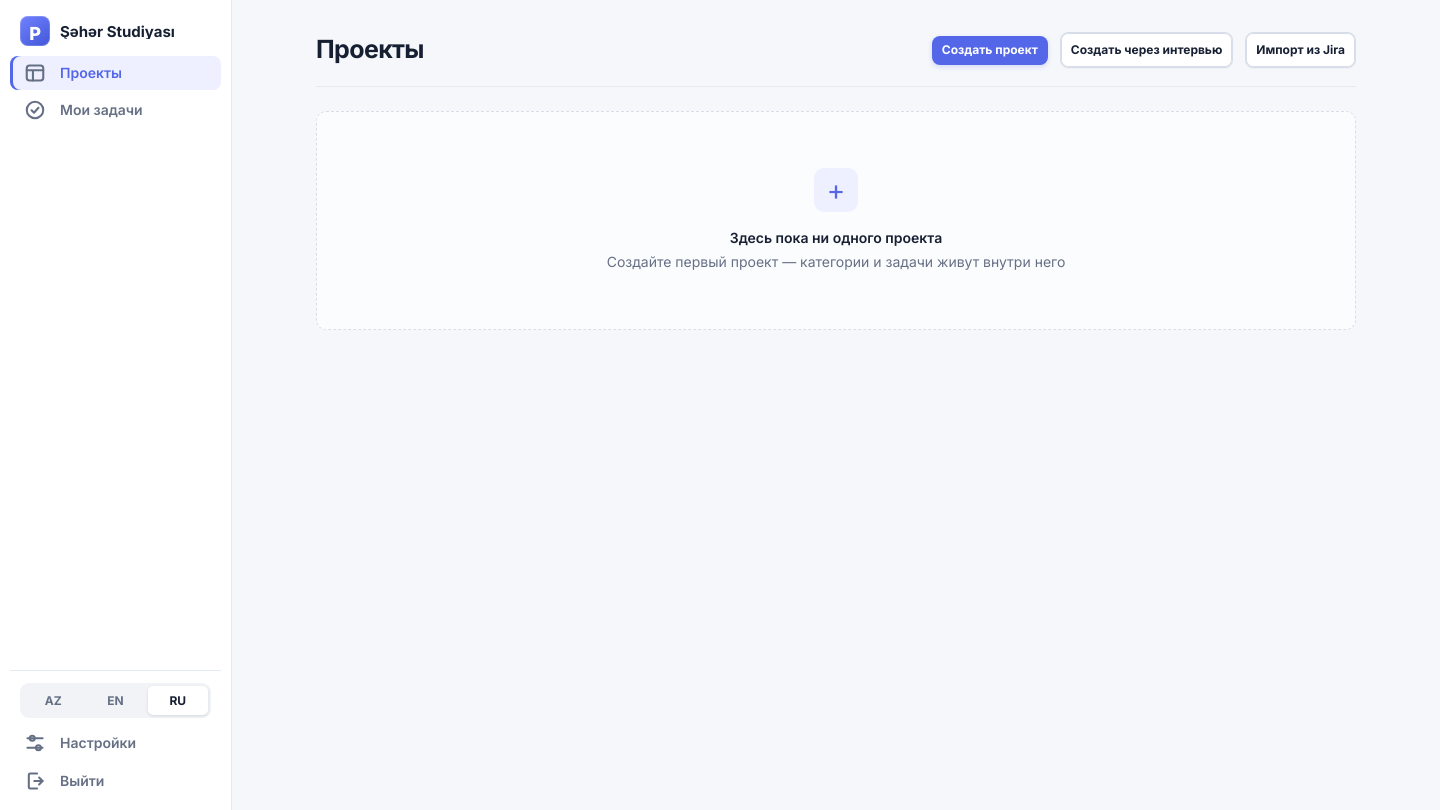
Test: экран проектов › не даёт отправить пустое название
The width and height of the screenshot is (1440, 810).
Click the button "Создать проект" at (990, 50), box [932,36,1048,64]
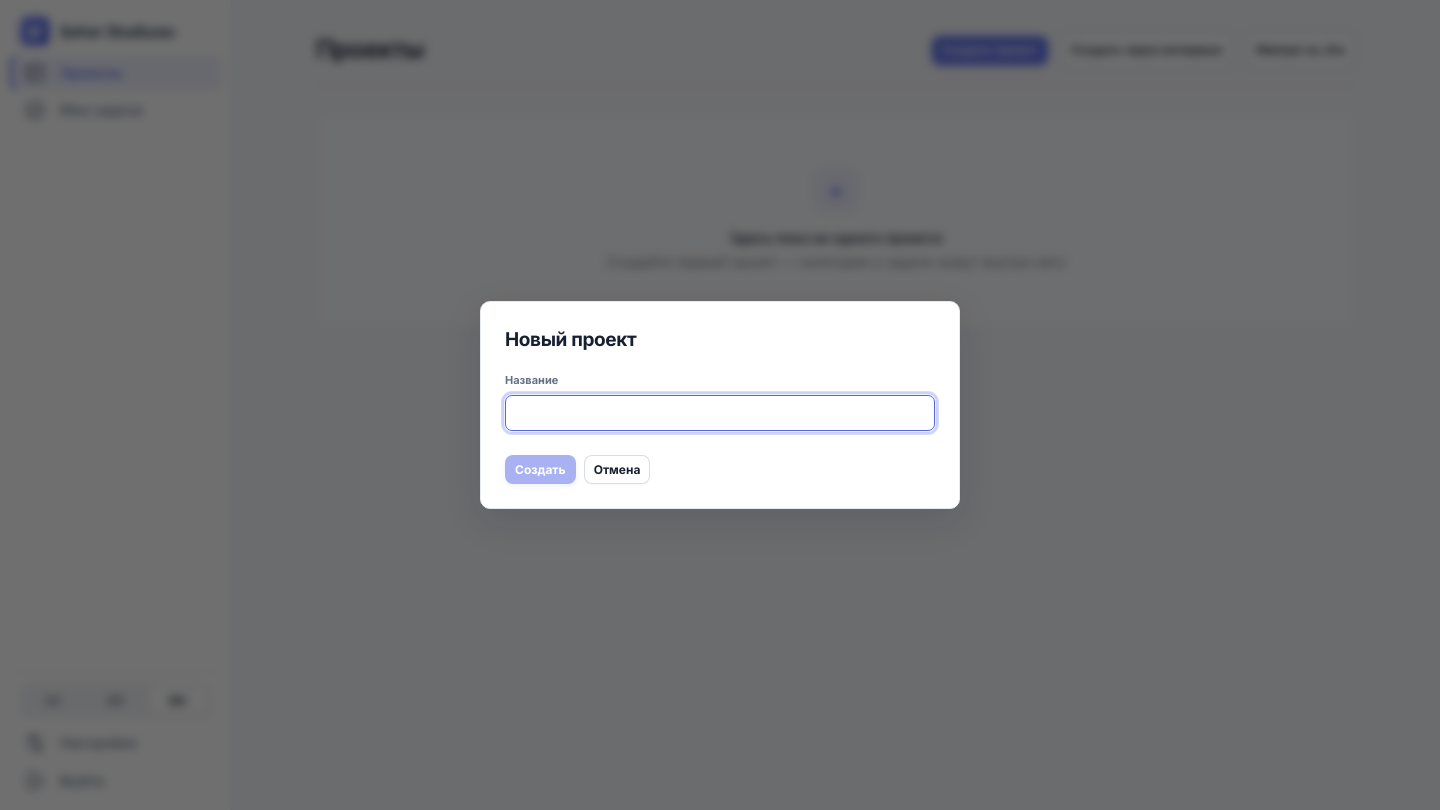
Check: the button "Создать" is disabled, box [505,455,576,484]
